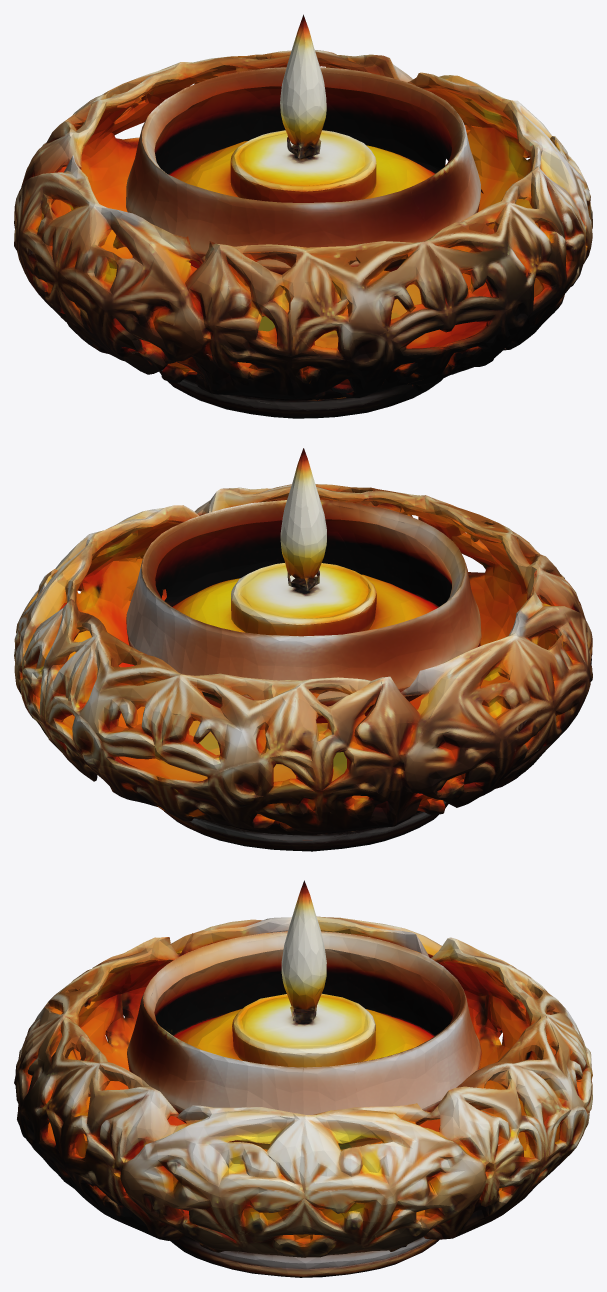
The model's file is clay-candle-holder-art-deco.jpeg.glb.
The picture shows the model from 3 angles, top to bottom: view 1: azimuth 30°, elevation 25°; view 2: azimuth 150°, elevation 25°; view 3: azimuth 270°, elevation 25°; orthographic projection.
Parts seen in each view (by area): view 1: world; view 2: world; view 3: world.
Part boxes in pixels (x1=…): world: x1=14, y1=14, x2=592, y2=418; world: x1=14, y1=448, x2=592, y2=851; world: x1=14, y1=880, x2=592, y2=1277.
Bounding box in the file's own units: 0.9775 × 0.6387 × 0.9977.
Materials: 1 (1 with a texture image).
